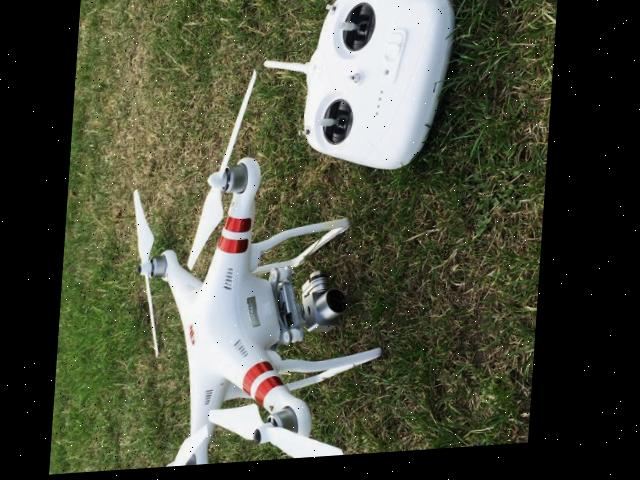drone: (117, 148, 397, 473)
